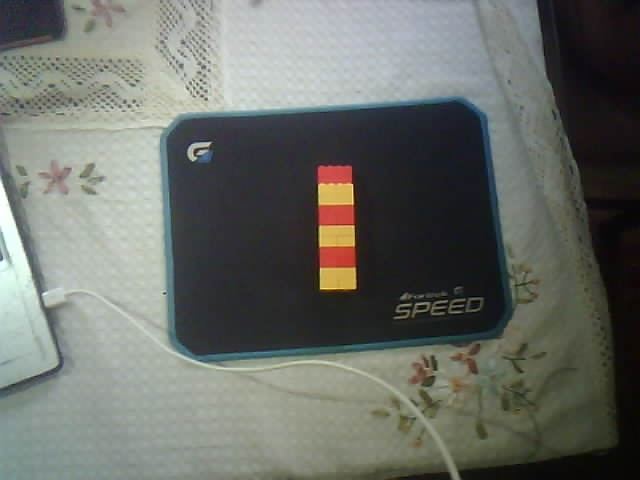lego: (314, 164, 359, 294)
